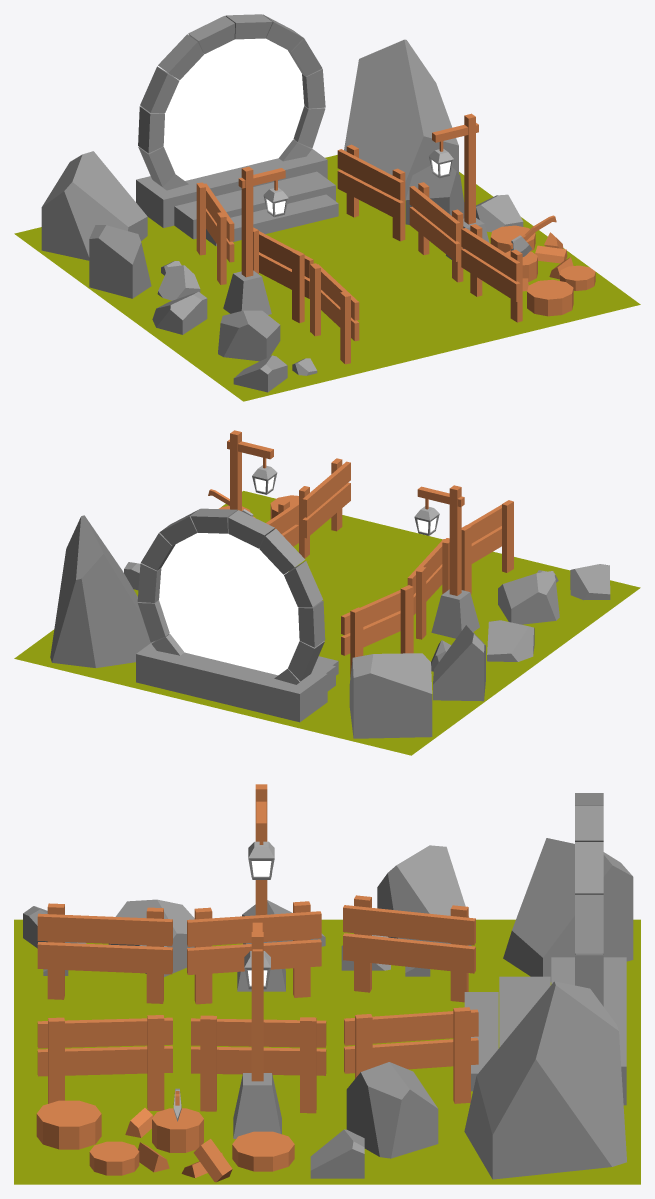
File: portal.glb
3 views of the same model, one above another, from view 1: azimuth 30°, elevation 25°; view 2: azimuth 150°, elevation 25°; view 3: azimuth 270°, elevation 25° (orthographic). The views are drawn at different scales.
Visible parts, largest first — view 1: Plane, portalLight, Cube.021, Cube.020, Cube.016, Cube.024, Cube.003, Cube.001, Cube.002, Cube.005, Cube.040, Cube.042 (+24 smaller); view 2: Plane, portalLight, Cube.021, Cube.016, Cube.020, Cube.004, Cube.024, Cube.001, Cube.042, Cube.027, Cube.005, Cube.013 (+15 smaller); view 3: Plane, Cube.021, Cube.020, Cube.042, Cube.004, Cube.001, Cube.002, Cube.005, Cube.003, Cube.022, Cube.024, Cylinder.001 (+20 smaller).
Part boxes in pixels (x1=…): Plane: x1=14, y1=155, x2=640, y2=401; portalLight: x1=163, y1=38, x2=304, y2=180; Cube.021: x1=344, y1=39, x2=458, y2=199; Cube.020: x1=41, y1=151, x2=147, y2=260; Cube.016: x1=136, y1=147, x2=327, y2=227; Cube.024: x1=89, y1=225, x2=151, y2=298; Cube.003: x1=337, y1=144, x2=405, y2=241; Cube.001: x1=461, y1=224, x2=522, y2=322; Cube.002: x1=409, y1=182, x2=463, y2=282; Cube.005: x1=253, y1=227, x2=313, y2=323; Cube.040: x1=174, y1=171, x2=335, y2=239; Cube.042: x1=310, y1=263, x2=359, y2=364; Plane: x1=14, y1=491, x2=640, y2=755; portalLight: x1=159, y1=533, x2=299, y2=675; Cube.021: x1=50, y1=515, x2=150, y2=667; Cube.016: x1=136, y1=641, x2=327, y2=722; Cube.020: x1=349, y1=653, x2=432, y2=738; Cube.004: x1=341, y1=585, x2=413, y2=676; Cube.024: x1=433, y1=625, x2=485, y2=701; Cube.001: x1=299, y1=458, x2=350, y2=558; Cube.042: x1=461, y1=500, x2=513, y2=593; Cube.027: x1=498, y1=571, x2=559, y2=624; Cube.005: x1=407, y1=538, x2=449, y2=639; Cube.013: x1=417, y1=485, x2=464, y2=595; Plane: x1=14, y1=919, x2=640, y2=1184; Cube.021: x1=464, y1=981, x2=626, y2=1179; Cube.020: x1=503, y1=838, x2=633, y2=981; Cube.042: x1=37, y1=903, x2=172, y2=1003; Cube.004: x1=343, y1=895, x2=475, y2=1002; Cube.001: x1=37, y1=1015, x2=172, y2=1110; Cube.002: x1=191, y1=1015, x2=326, y2=1113; Cube.005: x1=187, y1=901, x2=321, y2=1004; Cube.003: x1=344, y1=1007, x2=478, y2=1103; Cube.022: x1=346, y1=1062, x2=438, y2=1158; Cube.024: x1=377, y1=845, x2=471, y2=945; Cylinder.001: x1=36, y1=1100, x2=101, y2=1149.
Bounding box in the file's own units: 4 × 1.74 × 4.
